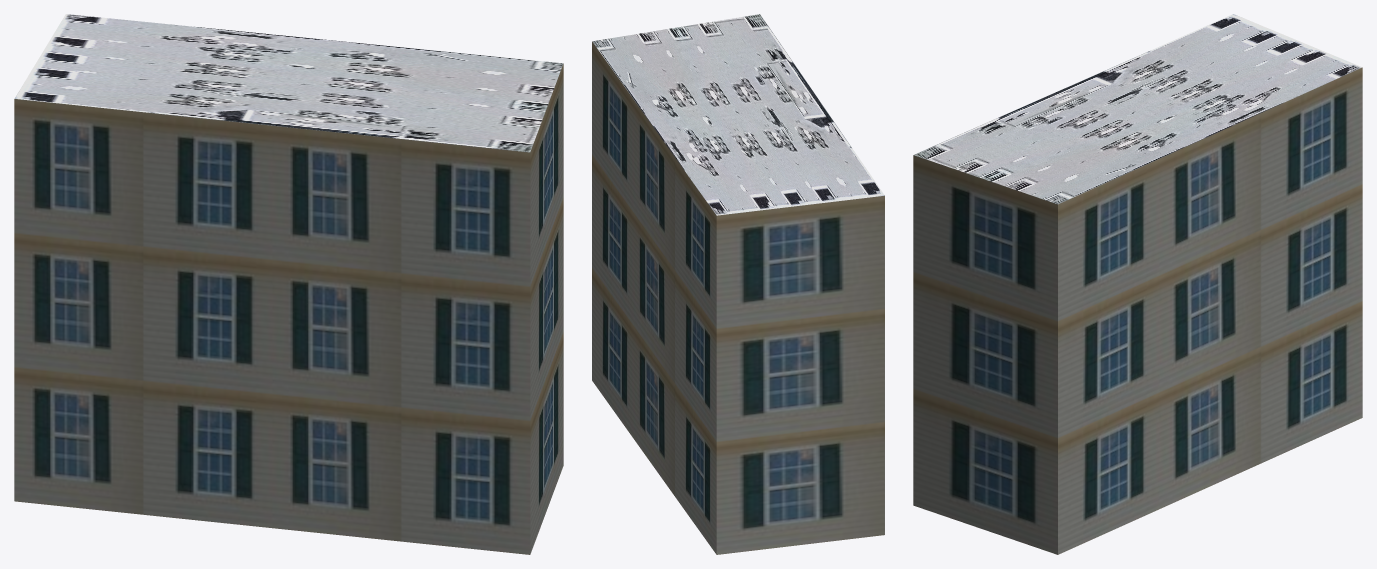
File: ResTex__1414.fbx
3 views of the same model, side by side, from view 1: azimuth 30°, elevation 25°; view 2: azimuth 150°, elevation 25°; view 3: azimuth 270°, elevation 25° (orthographic). The views are drawn at different scales.
Parts seen in each view (by area): view 1: CityEngineMaterial_7_m, CityEngineMaterial_m; view 2: CityEngineMaterial_7_m, CityEngineMaterial_m; view 3: CityEngineMaterial_7_m, CityEngineMaterial_m.
Part boxes in pixels (x1,y1,x2,y2): CityEngineMaterial_7_m: [14, 63, 563, 554]; CityEngineMaterial_m: [14, 14, 563, 152]; CityEngineMaterial_7_m: [592, 41, 884, 554]; CityEngineMaterial_m: [592, 14, 884, 215]; CityEngineMaterial_7_m: [913, 67, 1362, 554]; CityEngineMaterial_m: [914, 14, 1362, 204].
Size of the model in its own units: 10.49 by 9 by 10.45.
2 materials, 2 textured.
